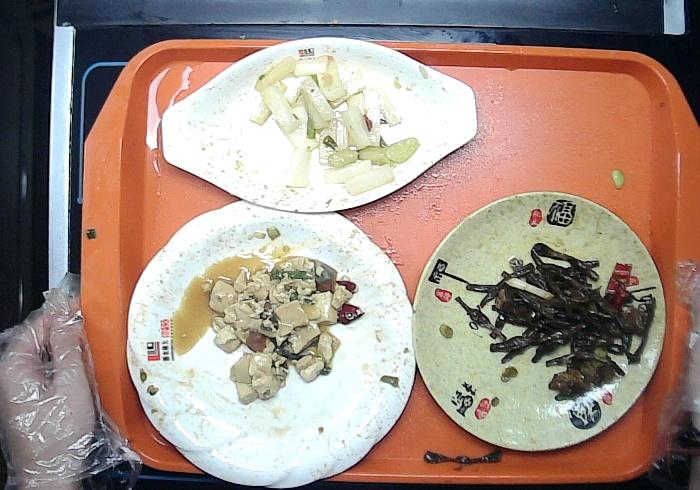NLDX-Bai_Zhe_Yuan_Pan: (115, 191, 423, 490)
NLDX-Fu_Zi_Yuan_Pan: (410, 187, 666, 454)
NLDX-Yu_Pan: (154, 31, 481, 217)
